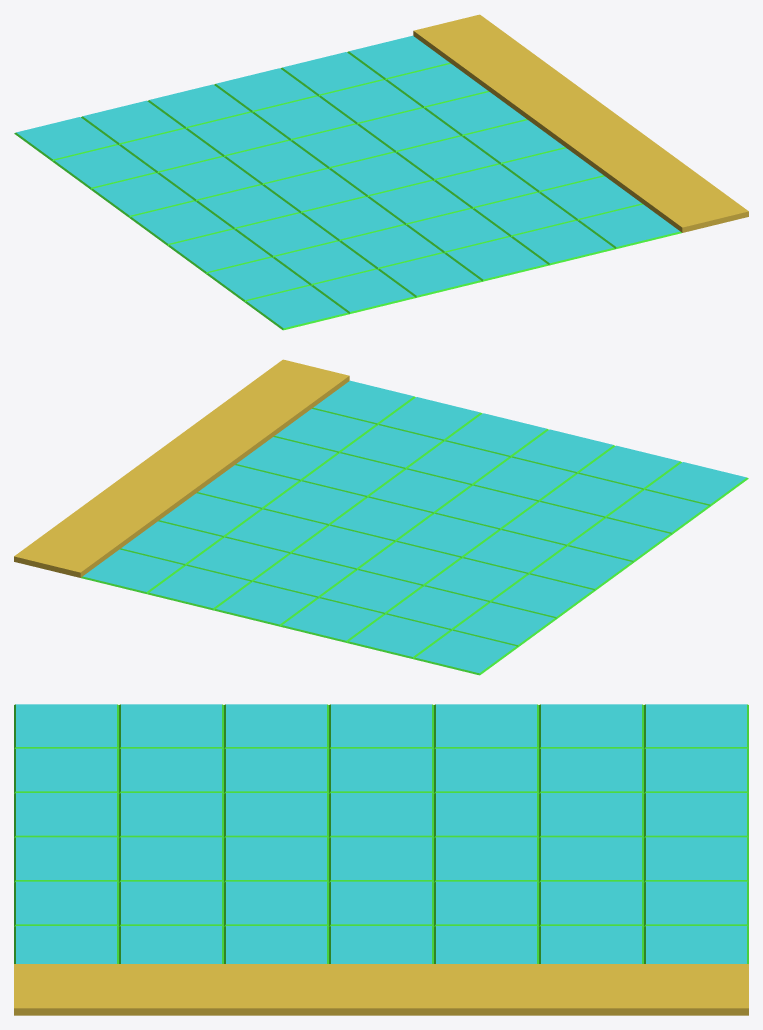
Rendered from Floor_08_Side.fbx.
3 renders of one model, top to bottom at view 1: azimuth 30°, elevation 25°; view 2: azimuth 150°, elevation 25°; view 3: azimuth 270°, elevation 25°, orthographic. The views are drawn at different scales.
Visible parts, largest first — view 1: Floor_08_Side; view 2: Floor_08_Side; view 3: Floor_08_Side.
Boxes of the visible parts, x1,y1,x2,y2 form: Floor_08_Side: (14,14,748,330); Floor_08_Side: (14,359,748,675); Floor_08_Side: (14,704,748,1015).
Size of what is drawn, in the model's own units: 457 by 5.08 by 457.
